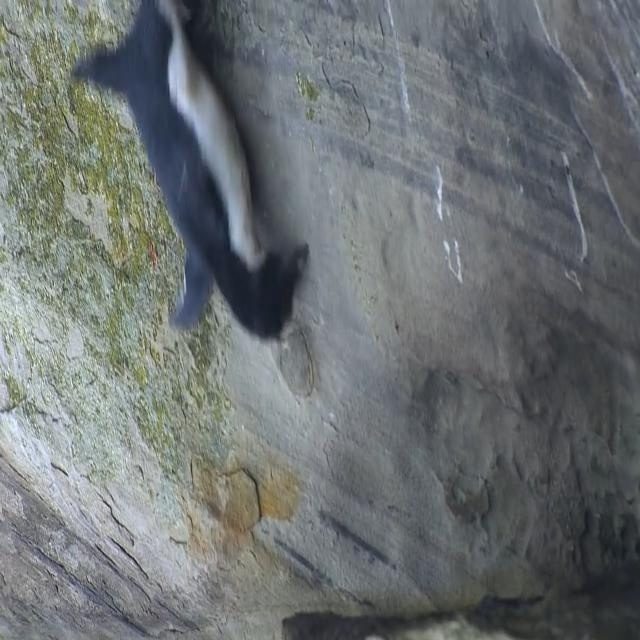penguin: (71, 1, 310, 339)
